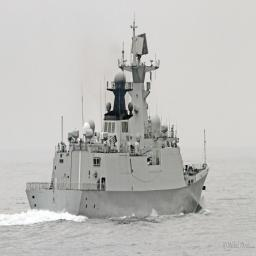Fragata: (25, 4, 211, 220)
